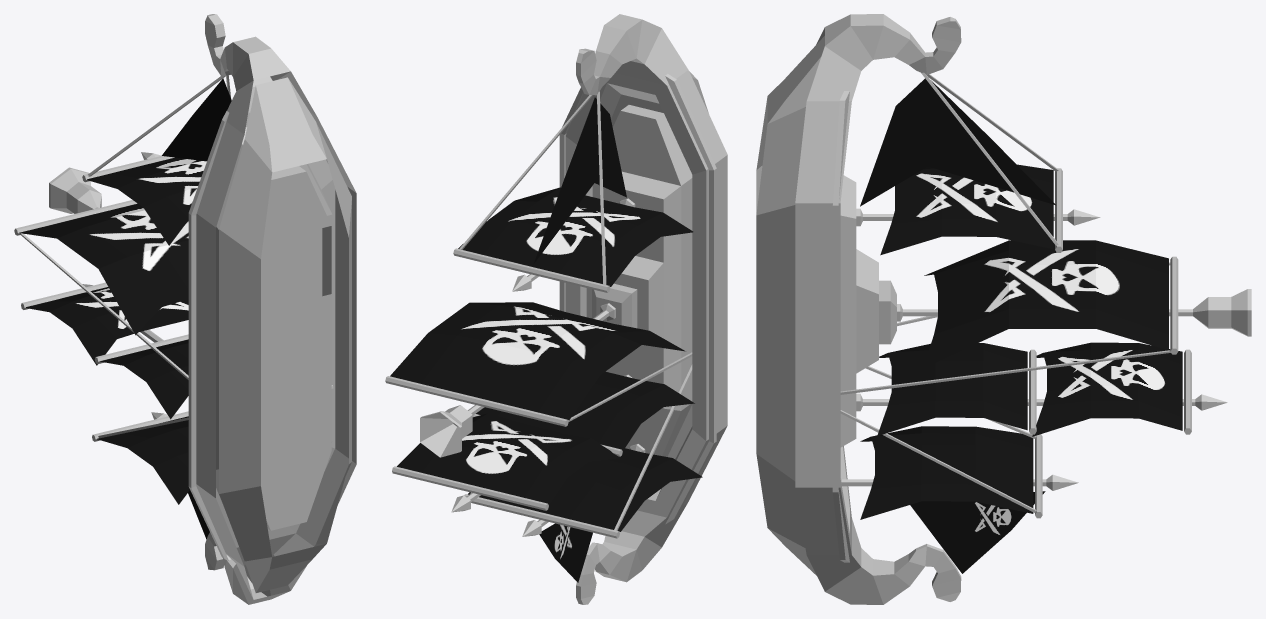
Rendered from skin_13.fbx.
3 renders of one model, left to right at view 1: azimuth 30°, elevation 25°; view 2: azimuth 150°, elevation 25°; view 3: azimuth 270°, elevation 25°, orthographic. The views are drawn at different scales.
Parts seen in each view (by area): view 1: Cube.634; view 2: Cube.634; view 3: Cube.634.
Part boxes in pixels (left/top/right/bottom): Cube.634: left=14, top=14, right=356, bottom=604; Cube.634: left=385, top=14, right=727, bottom=604; Cube.634: left=756, top=14, right=1251, bottom=604.
Size of the model in its own units: 612 by 1800 by 1391.
